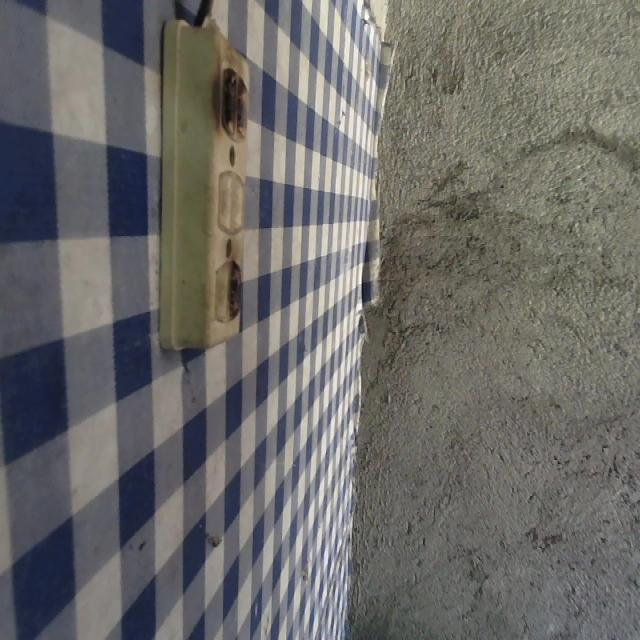-: (214, 63, 252, 141), (225, 258, 247, 322)
